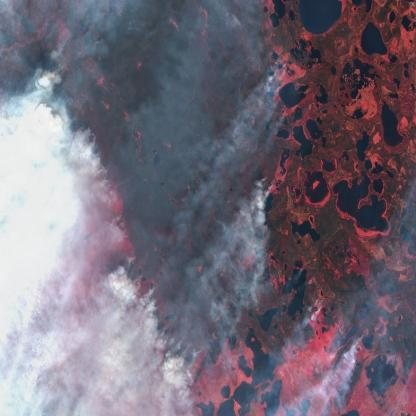fire: (39, 23, 371, 416)
